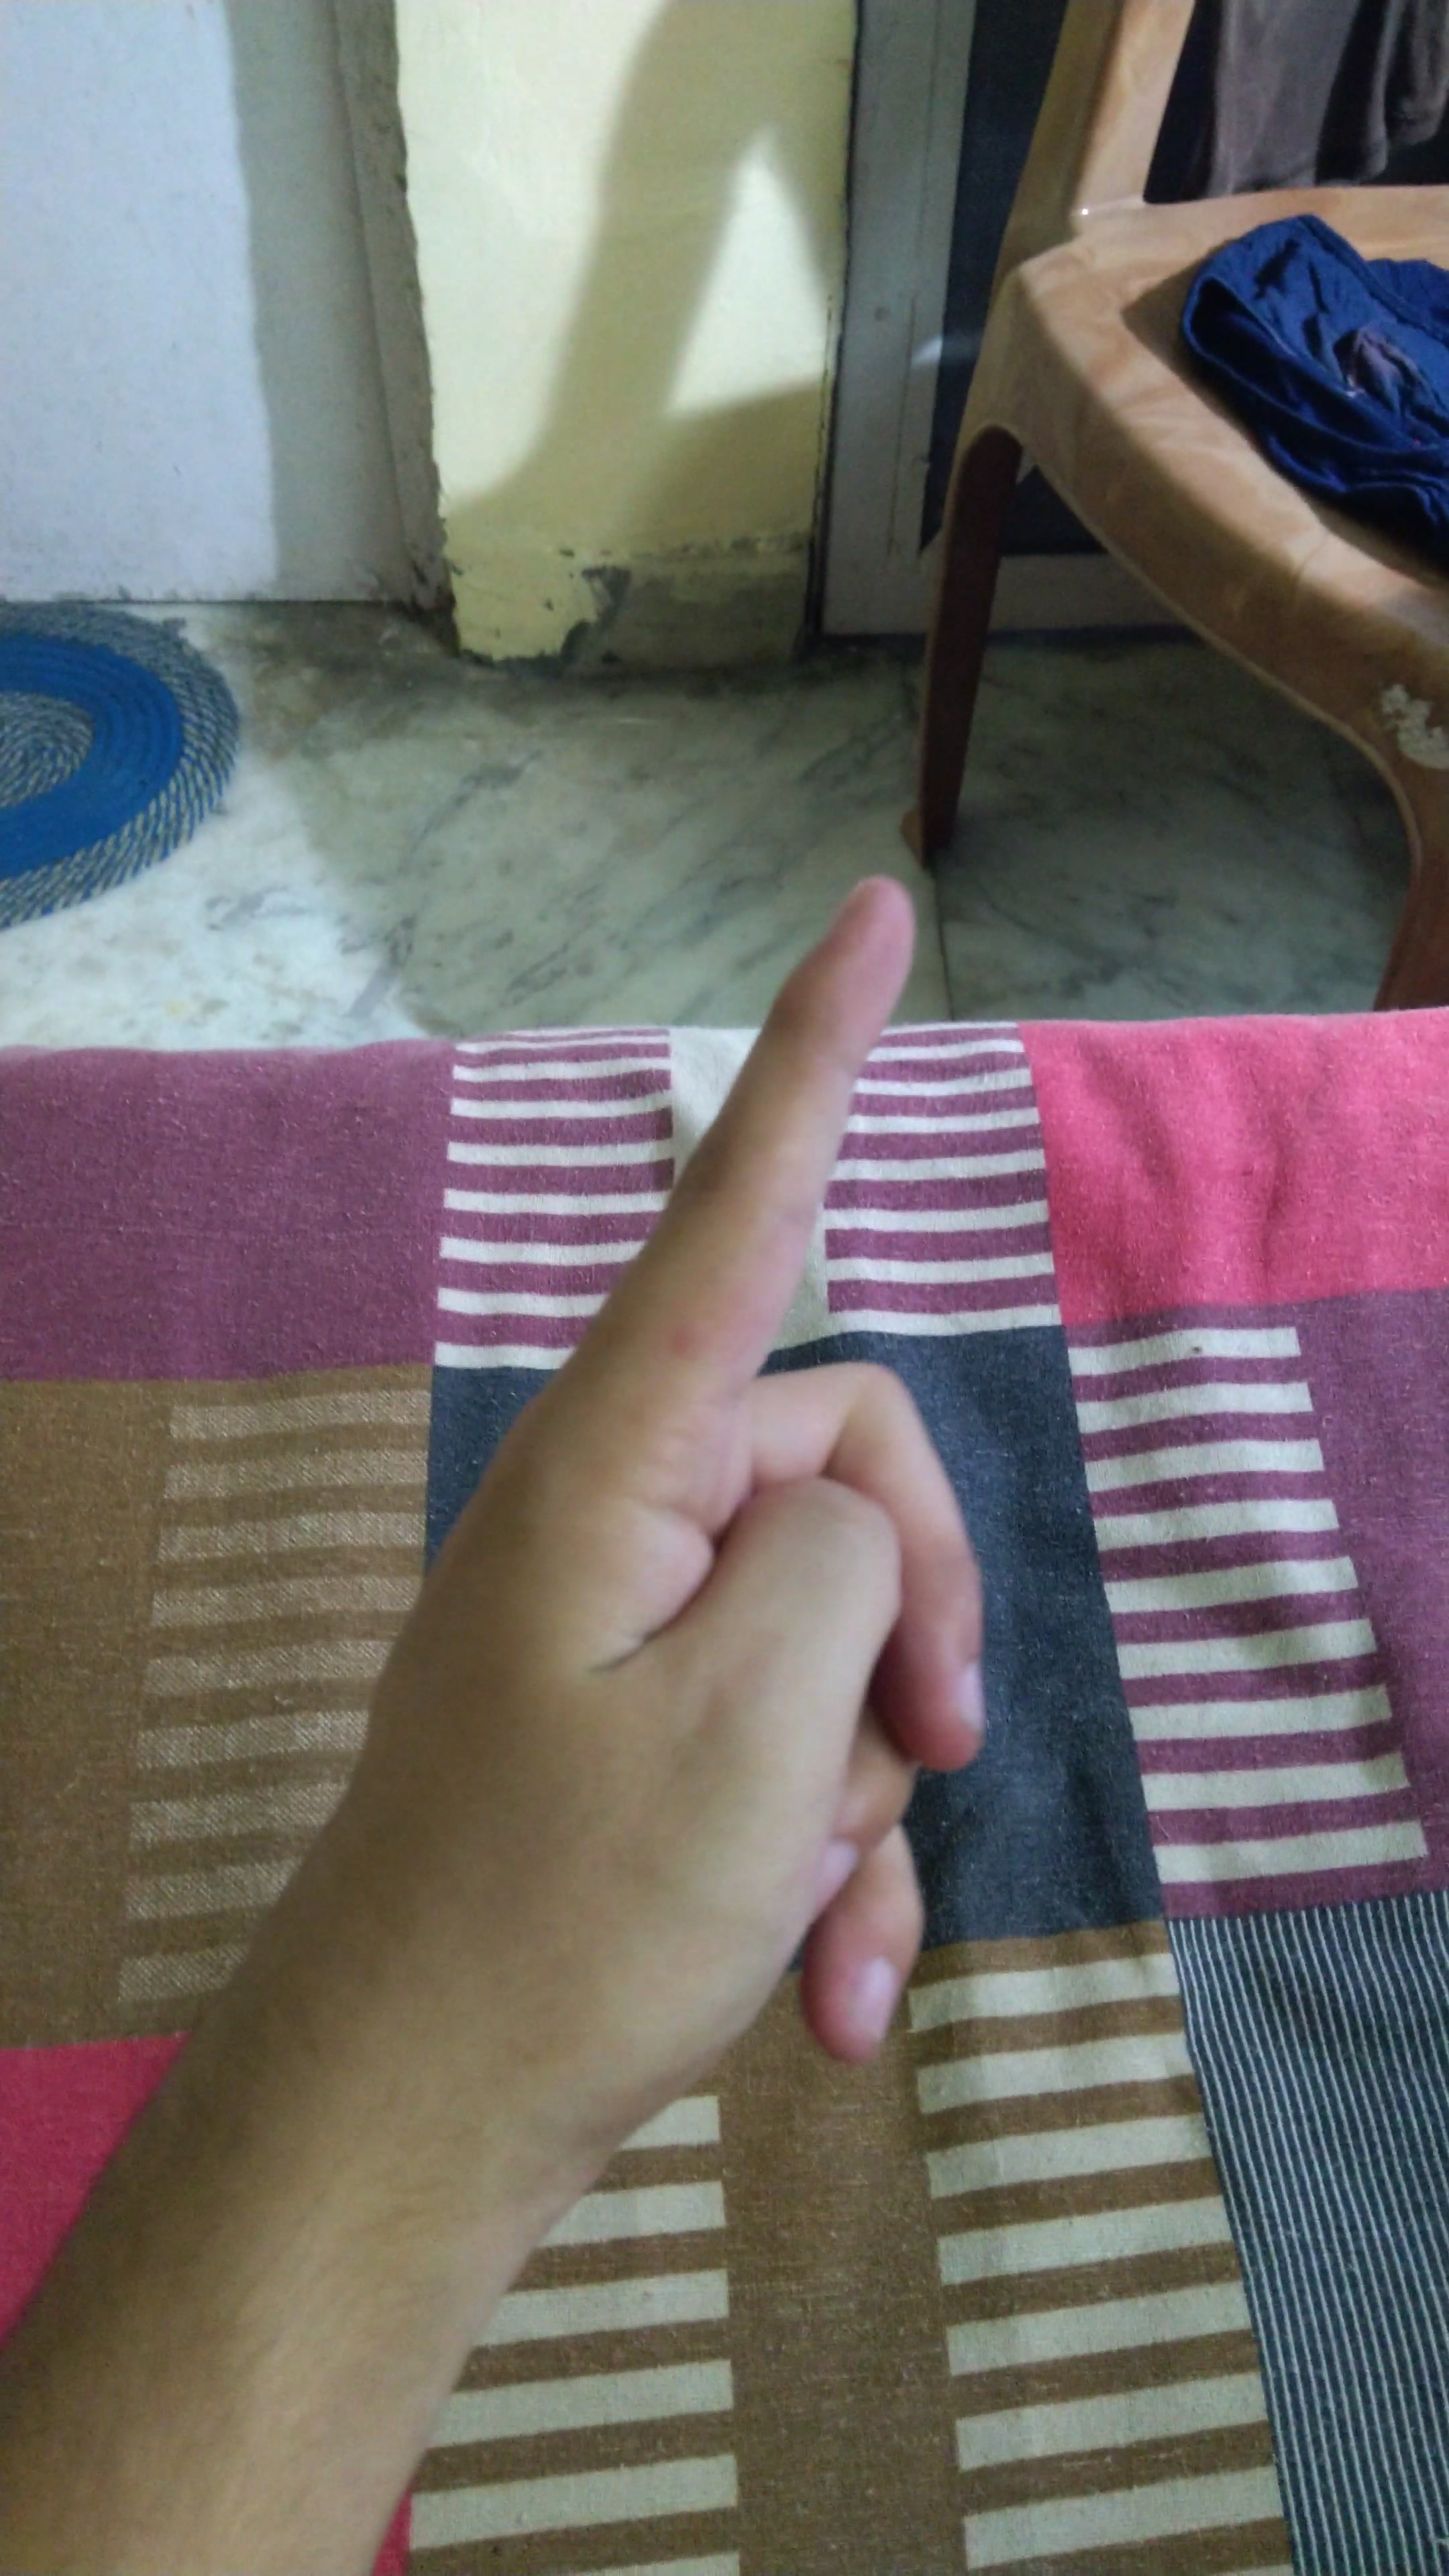hand: (248, 821, 1127, 2213)
